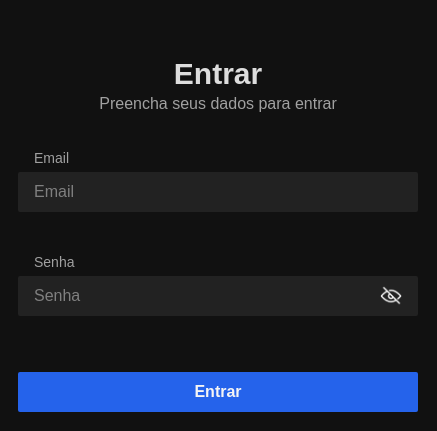
Login Component › Should show a notification with an error
In the field with placeholder "Email": (218, 192) [18,172,418,212], type "user01@email.com"
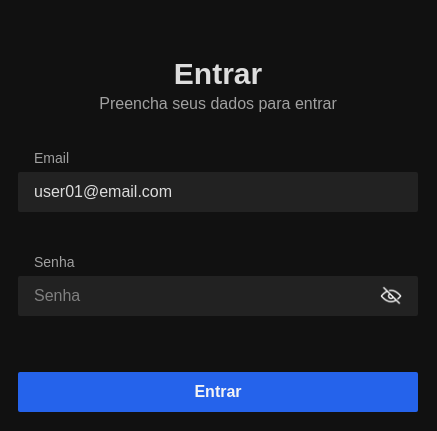
In the password field with placeholder "Senha": (207, 296) [34,284,380,308], type "User1234"
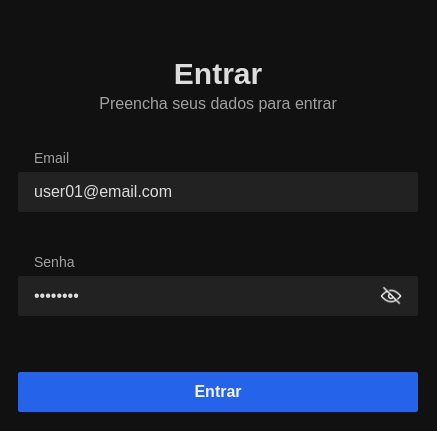
Click the button "Entrar": (218, 392) [18,372,418,412]
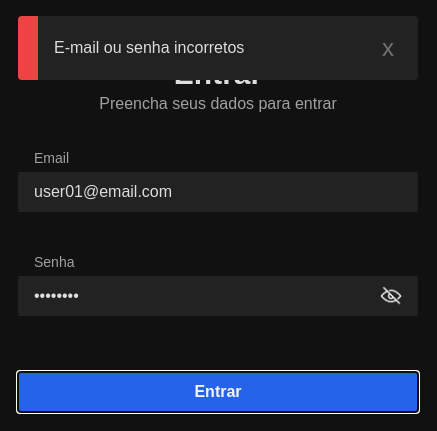
expect the text "E-mail ou senha incorretos" is shown: met, box [54,36,244,60]
